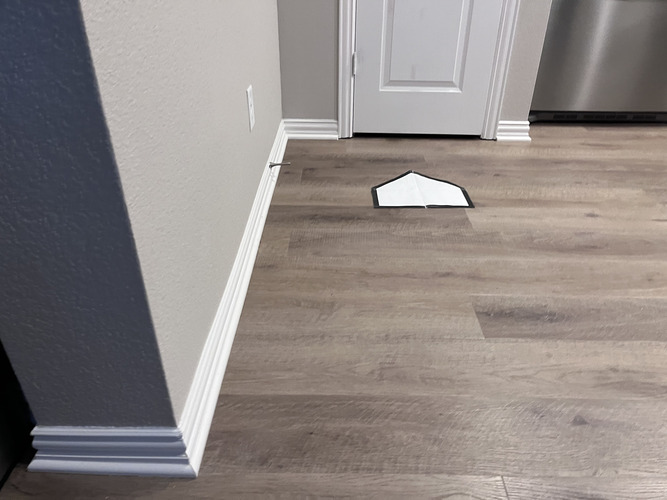homeplate: (371, 170, 473, 208)
